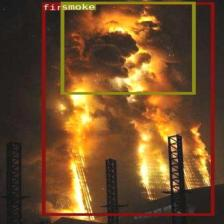fire: (42, 2, 214, 215)
smoke: (60, 1, 194, 94)
